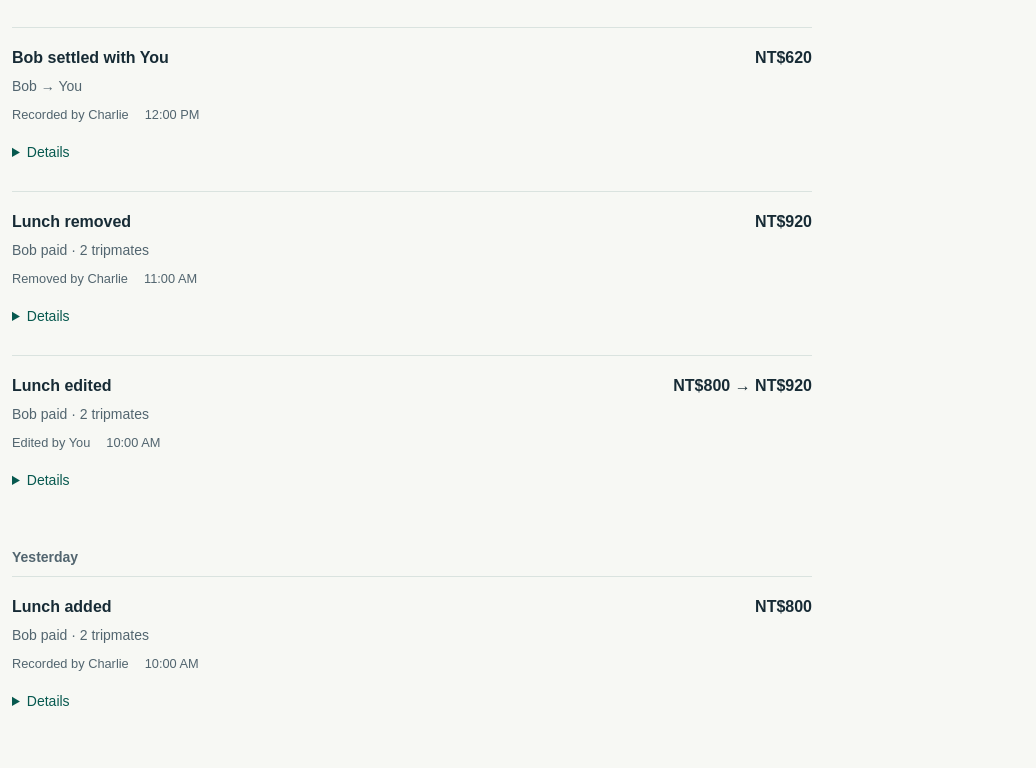
it: reconstructs only proven correction/removal events, ordered by mutation time rather than external dates
(page scrolled)
Expected: the heading "Yesterday" is shown, x1=12 y1=549 x2=78 y2=565
Expected: the element "Lunch edited" shows "NT$800", x1=673 y1=377 x2=730 y2=394
Step 1. Click the heading "Details" below "Lunch edited" → [58, 480], box x1=27 y1=471 x2=89 y2=488
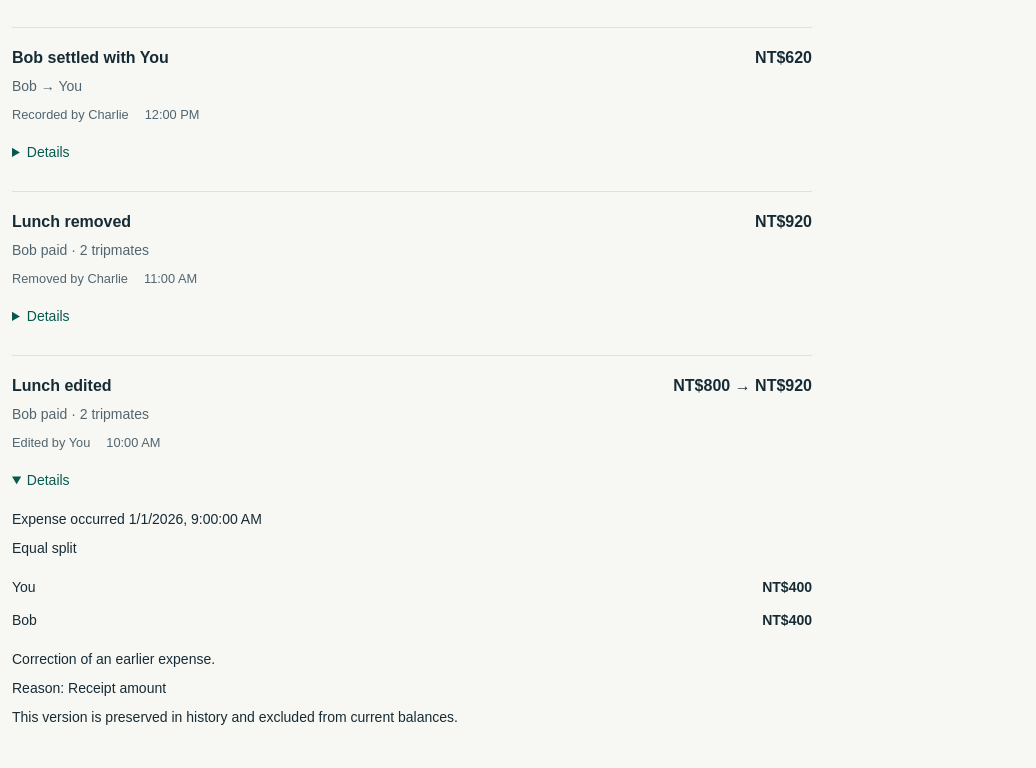
Expected: the text "Reason: Receipt amount" is shown, x1=12 y1=680 x2=166 y2=696
